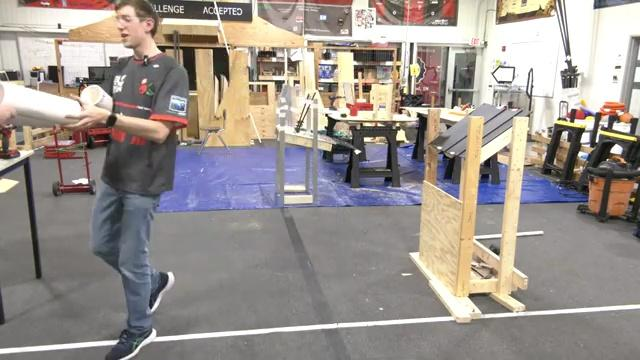CORAL: (0, 79, 82, 128), (81, 86, 113, 114)
